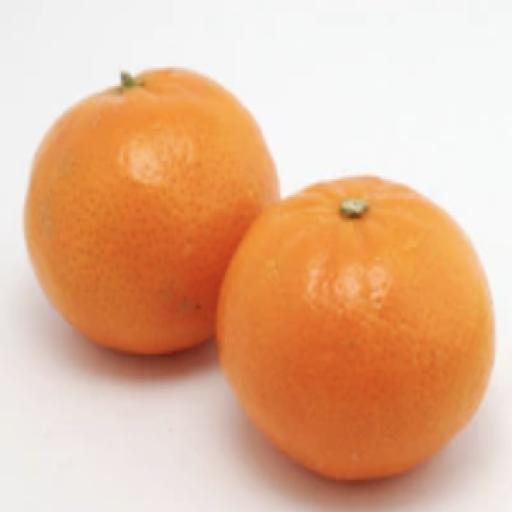orange: (219, 178, 493, 479), (24, 69, 278, 354)
